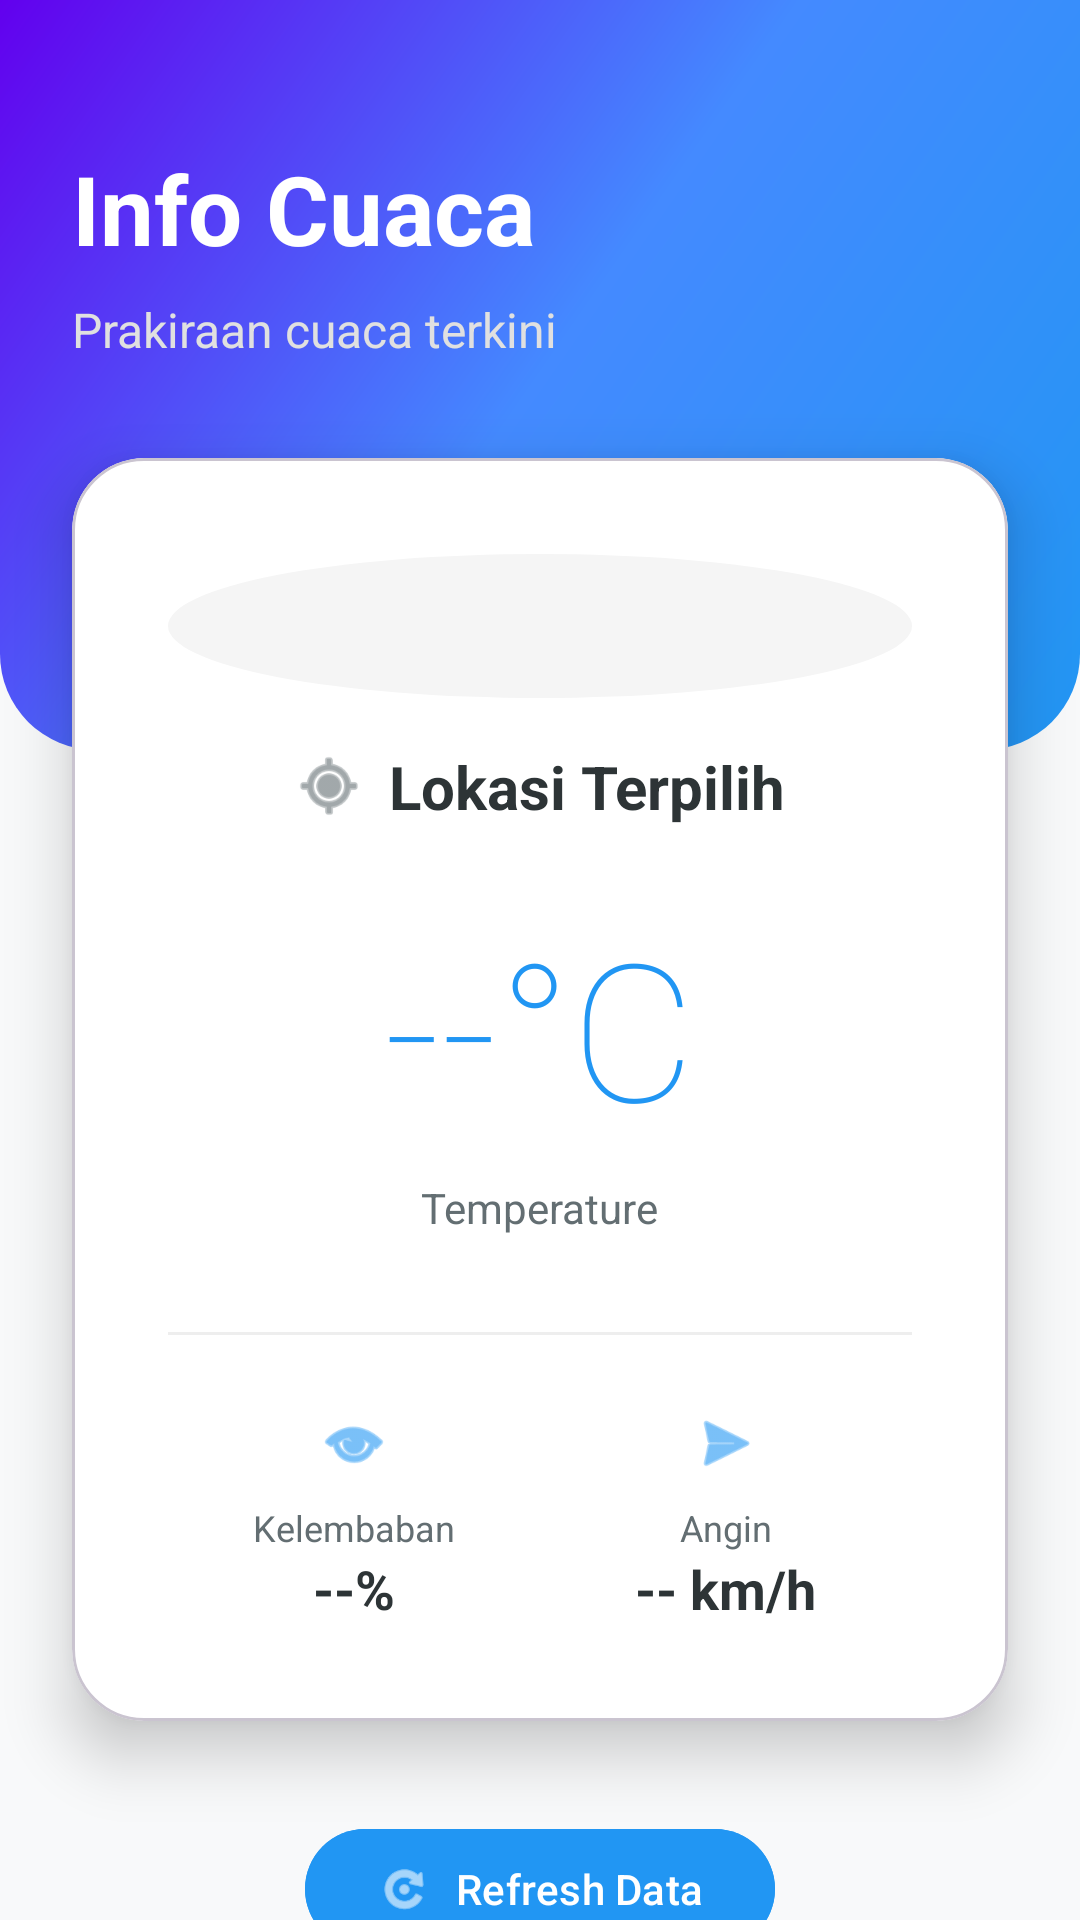

Where icons sit on this 1080px×1920px app screen, as (x1, y1, x2, y2):
mylocation: (300, 757, 358, 815)
send: (704, 1421, 750, 1466)
view: (325, 1426, 383, 1463)
